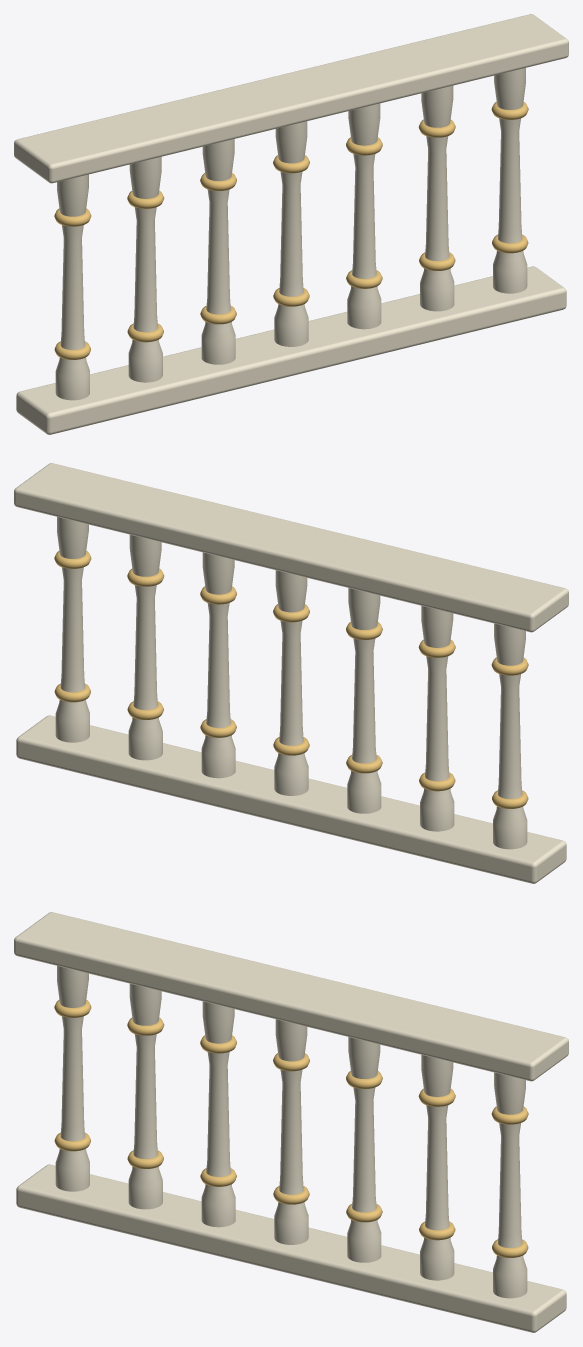
Rendered from royal-court-and-throne-palace-balustrade-section-b7f02210__29423.glb.
3 renders of one model, top to bottom at view 1: azimuth 30°, elevation 25°; view 2: azimuth 150°, elevation 25°; view 3: azimuth 330°, elevation 25°, orthographic.
Visible parts, largest first — view 1: balustrade-section; view 2: balustrade-section; view 3: balustrade-section.
Boxes of the visible parts, x1,y1,x2,y2 form: balustrade-section: [14, 14, 568, 434]; balustrade-section: [14, 463, 568, 883]; balustrade-section: [14, 912, 568, 1332].
Size of the model in its own units: 2 by 1 by 0.25.
